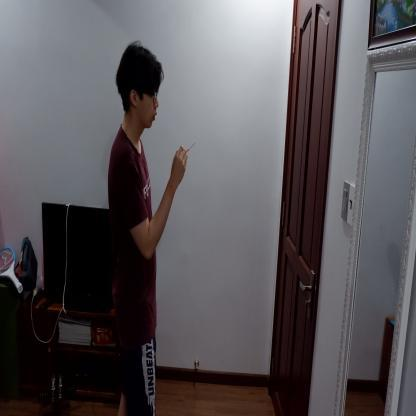cigarette: (186, 140, 196, 154)
person: (104, 37, 187, 415)
